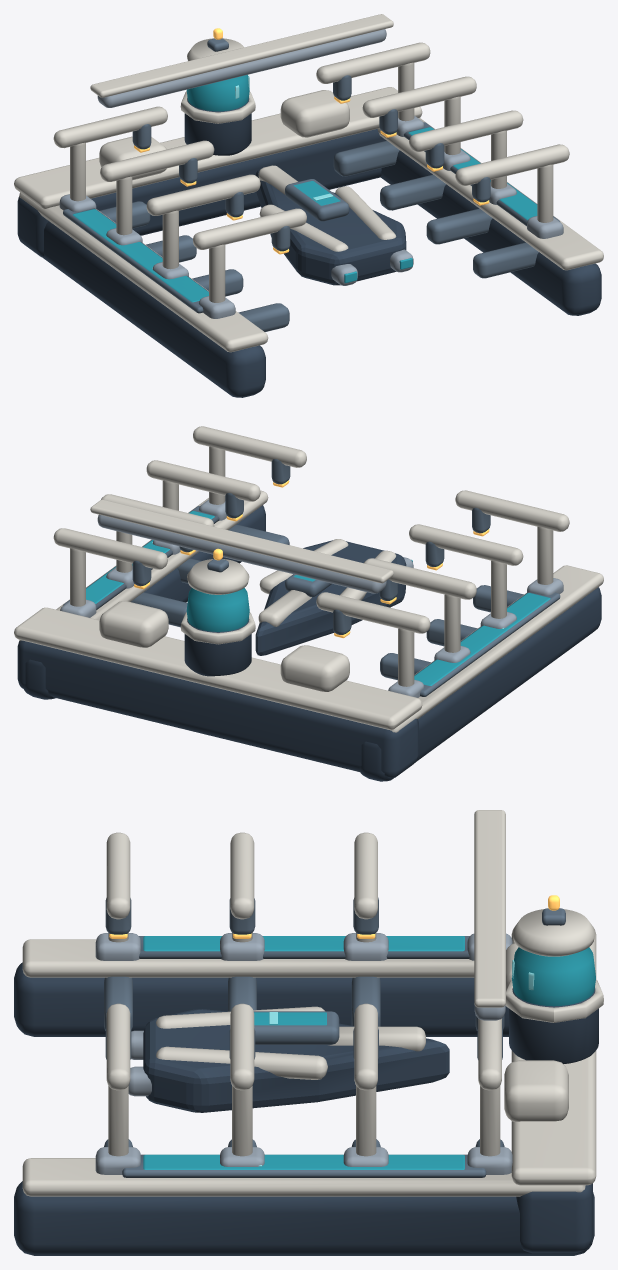
File: orbital_shipyard_lv5.glb
3 views of the same model, one above another, from view 1: azimuth 30°, elevation 25°; view 2: azimuth 150°, elevation 25°; view 3: azimuth 270°, elevation 25° (orthographic). The views are drawn at different scales.
Parts seen in each view (by area): view 1: Structure; view 2: Structure; view 3: Structure.
Part boxes in pixels (<box>): Structure: <box>14,14,603,397</box>; Structure: <box>14,426,603,781</box>; Structure: <box>14,810,603,1255</box>.
Bounding box in the file's own units: 8.92 × 4.09 × 8.94.
